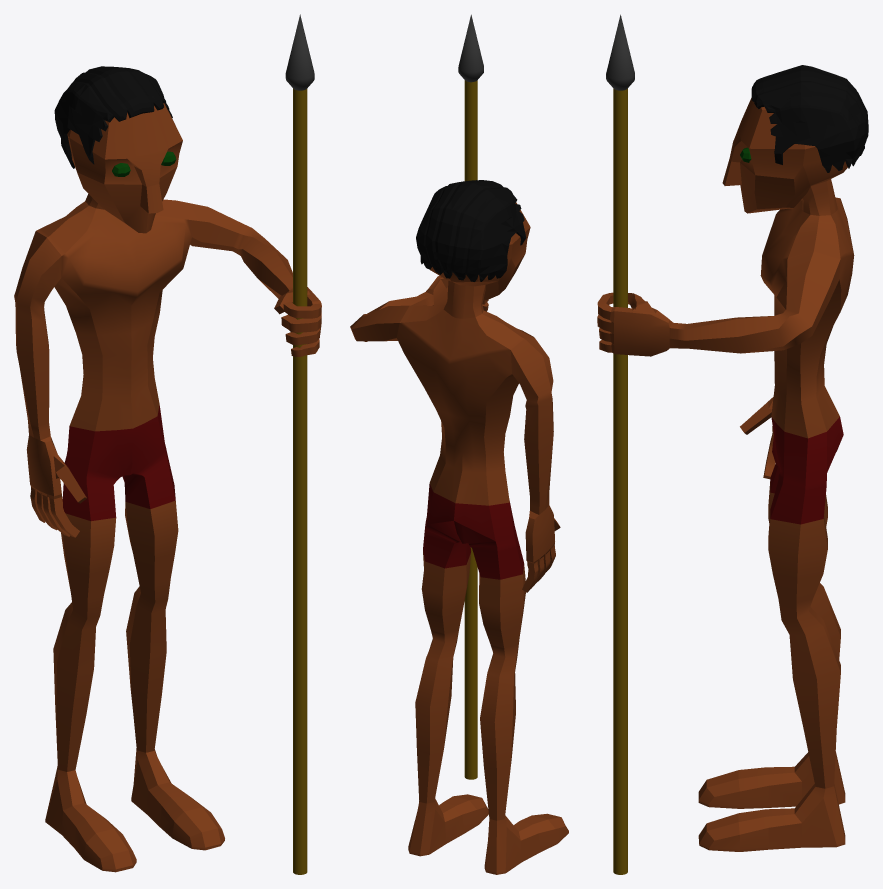
File: guard.fbx
3 views of the same model, side by side, from view 1: azimuth 30°, elevation 25°; view 2: azimuth 150°, elevation 25°; view 3: azimuth 270°, elevation 25° (orthographic). The views are drawn at different scales.
Parts seen in each view (by area): view 1: body, pCylinder1, hair, pCylinder2; view 2: body, hair, pCylinder1, pCylinder2; view 3: body, pCylinder1, hair, pCylinder2.
Boxes of the visible parts, <box> form: body: <box>14,103,321,872</box>; pCylinder1: <box>293,88,307,874</box>; hair: <box>54,66,172,168</box>; pCylinder2: <box>285,14,314,90</box>; body: <box>350,202,568,874</box>; hair: <box>416,180,526,281</box>; pCylinder1: <box>464,80,477,779</box>; pCylinder2: <box>458,14,483,82</box>; body: <box>597,98,854,851</box>; pCylinder1: <box>613,88,627,874</box>; hair: <box>751,65,868,172</box>; pCylinder2: <box>606,14,634,90</box>.
Bounding box in the file's own units: 14.1 × 49.07 × 14.08.
